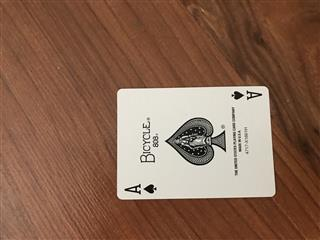AceOfSpades: (116, 84, 276, 200)
